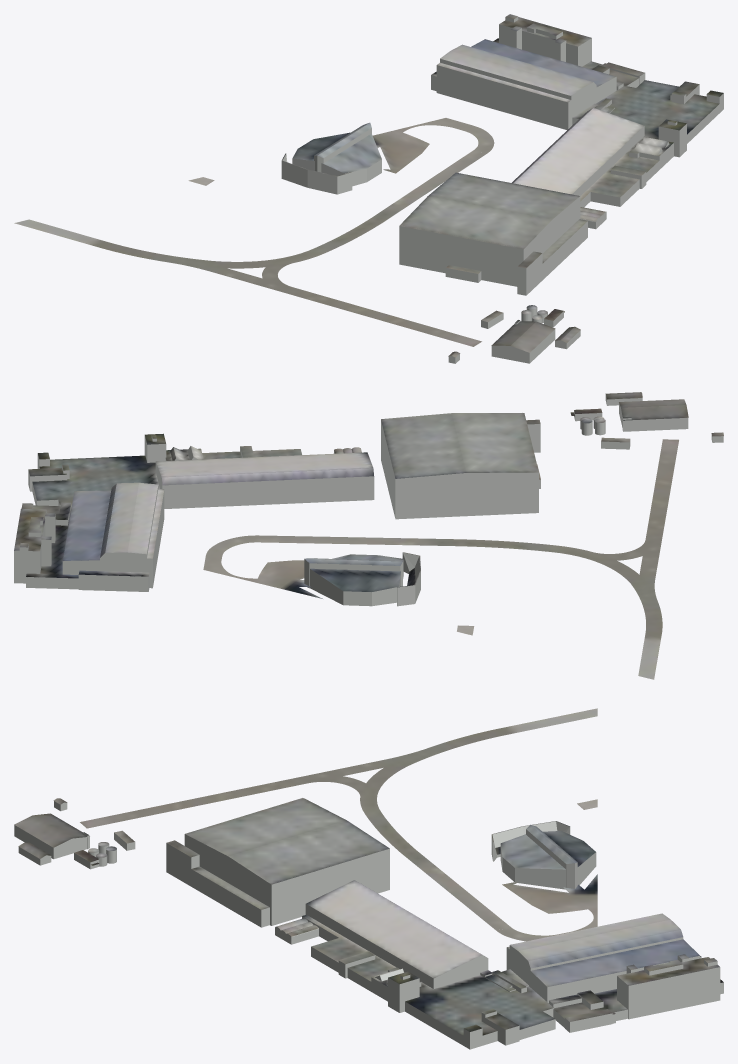
Rendered from LSZH_2_-4.glb.
3 renders of one model, top to bottom at view 1: azimuth 30°, elevation 25°; view 2: azimuth 150°, elevation 25°; view 3: azimuth 270°, elevation 25°, orthographic. The views are drawn at different scales.
Parts seen in each view (by area): view 1: building_7729949113874942, building_59a02a83e92b425e, pavement_LSZH_pavement_5369_2510, building_90eb351ca19671d4, building_7f9815fef9d6d843, building_a6e14f7b261a46dd, pavement_LSZH_pavement_5370_2510; view 2: building_7729949113874942, building_59a02a83e92b425e, pavement_LSZH_pavement_5369_2510, building_90eb351ca19671d4, building_7f9815fef9d6d843, building_a6e14f7b261a46dd, pavement_LSZH_pavement_5370_2510; view 3: building_7729949113874942, building_59a02a83e92b425e, pavement_LSZH_pavement_5369_2510, building_90eb351ca19671d4, building_7f9815fef9d6d843, building_a6e14f7b261a46dd, pavement_LSZH_pavement_5370_2510.
Boxes of the visible parts, bbox=[...] form: building_7729949113874942: bbox=[399, 14, 723, 273]; building_59a02a83e92b425e: bbox=[399, 17, 723, 295]; pavement_LSZH_pavement_5369_2510: bbox=[14, 127, 481, 346]; building_90eb351ca19671d4: bbox=[281, 122, 381, 194]; building_7f9815fef9d6d843: bbox=[448, 305, 580, 357]; building_a6e14f7b261a46dd: bbox=[448, 308, 580, 363]; pavement_LSZH_pavement_5370_2510: bbox=[409, 118, 494, 167]; building_7729949113874942: bbox=[14, 413, 540, 578]; building_59a02a83e92b425e: bbox=[14, 421, 540, 591]; pavement_LSZH_pavement_5369_2510: bbox=[242, 439, 678, 679]; building_90eb351ca19671d4: bbox=[304, 552, 420, 606]; building_7f9815fef9d6d843: bbox=[570, 392, 723, 442]; building_a6e14f7b261a46dd: bbox=[574, 395, 723, 449]; pavement_LSZH_pavement_5370_2510: bbox=[203, 535, 300, 579]; building_7729949113874942: bbox=[166, 798, 723, 1035]; building_59a02a83e92b425e: bbox=[166, 834, 723, 1049]; pavement_LSZH_pavement_5369_2510: bbox=[80, 708, 597, 914]; building_90eb351ca19671d4: bbox=[491, 821, 596, 889]; building_7f9815fef9d6d843: bbox=[14, 798, 134, 865]; building_a6e14f7b261a46dd: bbox=[14, 801, 135, 869]; pavement_LSZH_pavement_5370_2510: bbox=[477, 915, 597, 941].
Size of the model in its own units: 713 by 44.34 by 629.
3 materials, 2 textured.
